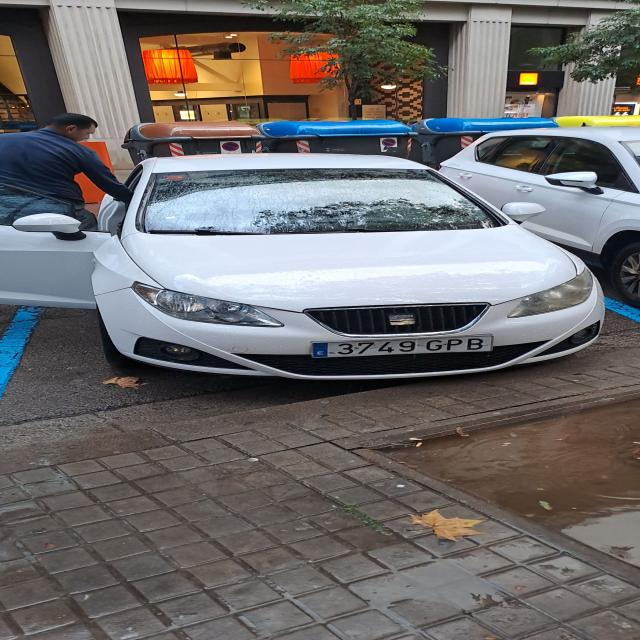license_plate-34Td: (310, 335, 493, 358)
